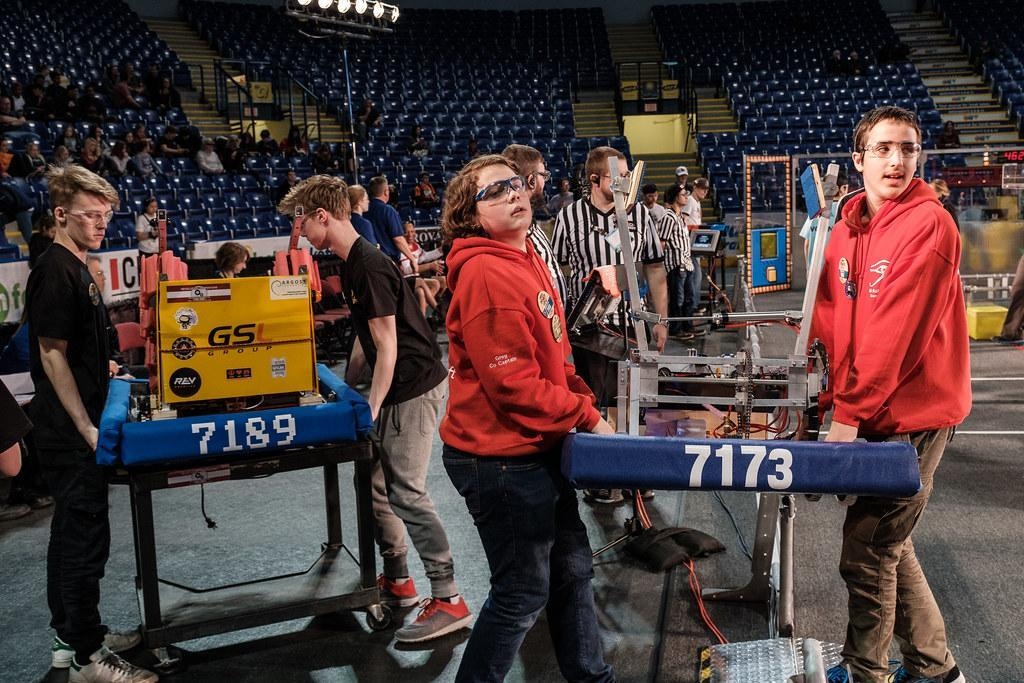robot: (560, 147, 925, 503), (93, 199, 383, 470)
